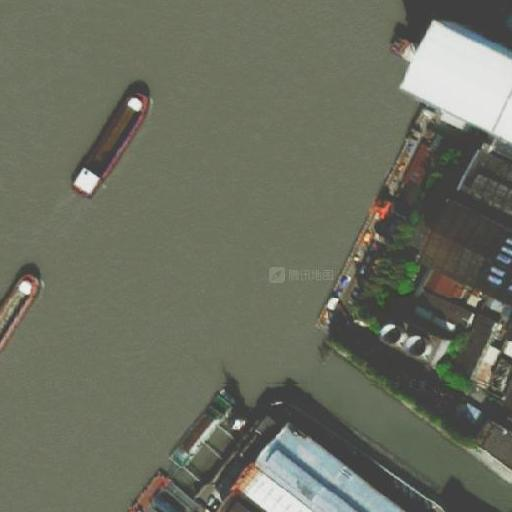building: (209, 413, 420, 511), (395, 13, 512, 146), (438, 195, 512, 262), (408, 277, 473, 338), (453, 155, 509, 215), (382, 311, 448, 361), (473, 415, 512, 473), (418, 264, 473, 304), (420, 228, 463, 270), (473, 305, 507, 356), (403, 138, 436, 188), (469, 350, 501, 395), (455, 400, 484, 428)
